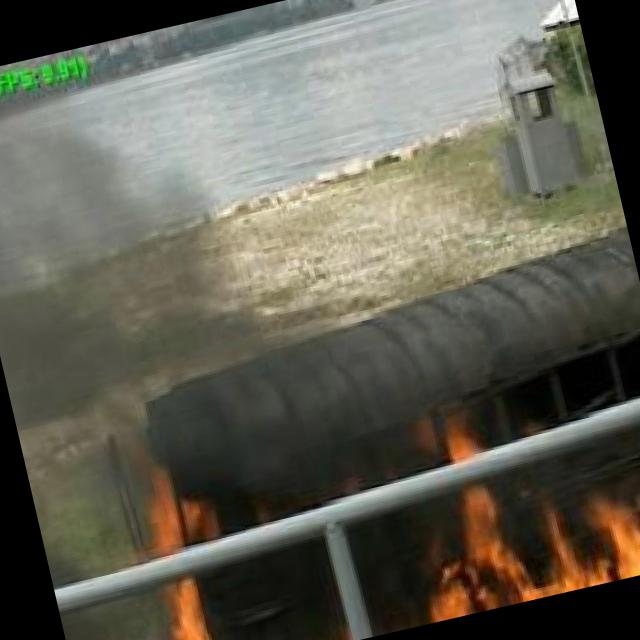Fire: (404, 467, 640, 624), (122, 454, 272, 640), (405, 396, 502, 466)
Smoke: (0, 73, 281, 435)
